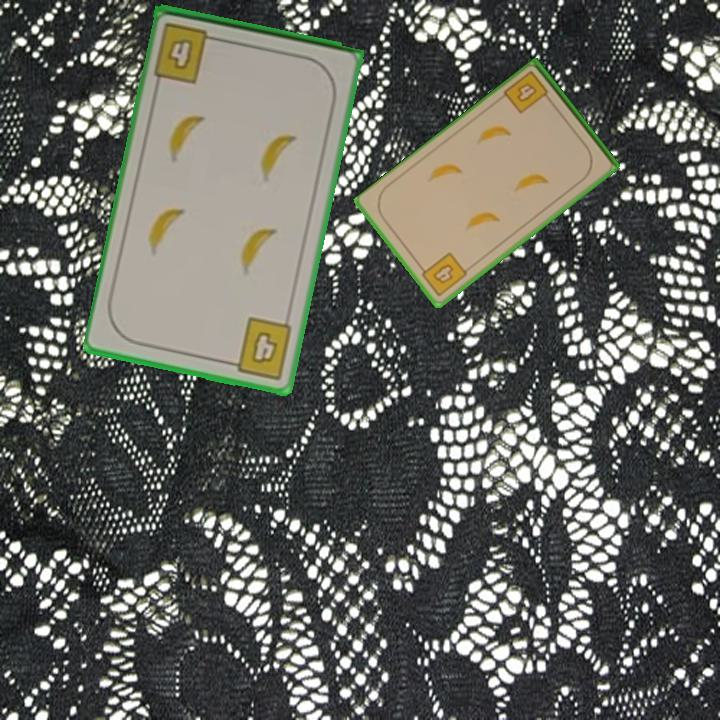4b: (223, 314, 296, 383), (150, 18, 224, 86), (415, 249, 470, 300), (500, 67, 555, 117)
